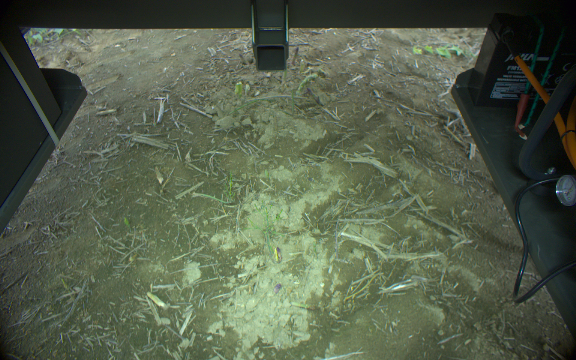aspa: (295, 73, 318, 96), (232, 80, 241, 96)
